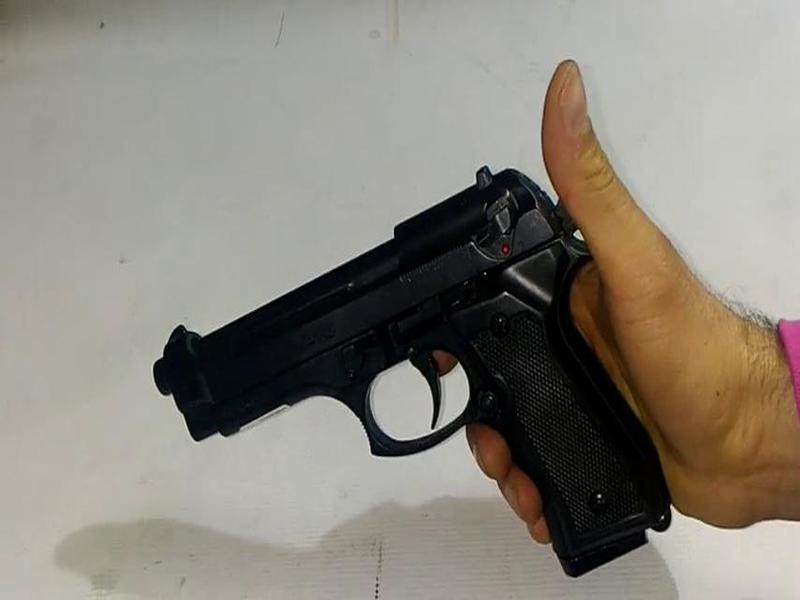Pistola: (121, 142, 684, 600)
